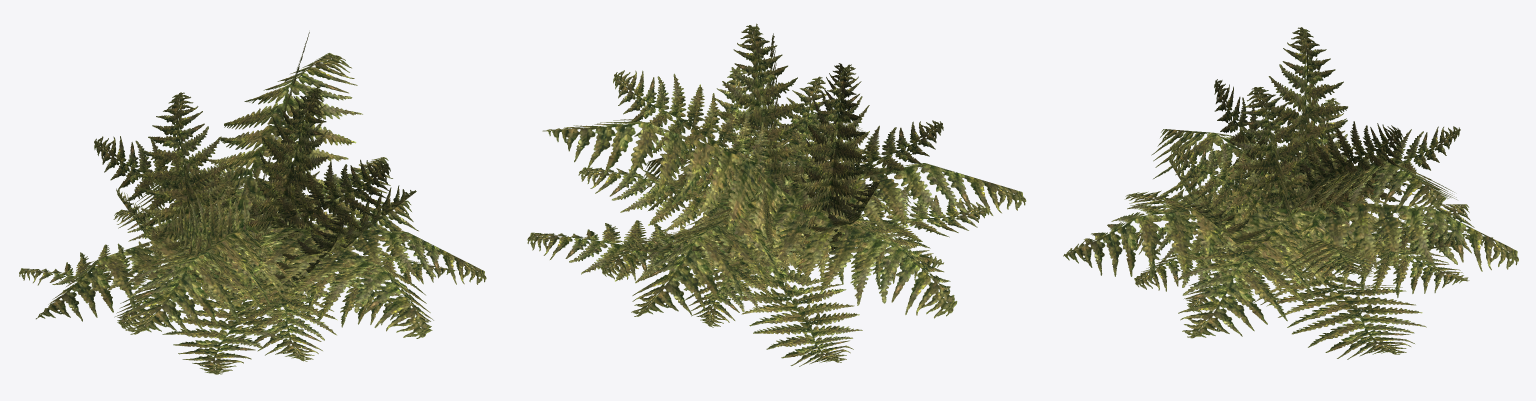
File: fougereleaf.fbx
The picture shows the model from 3 angles, left to right: view 1: azimuth 30°, elevation 25°; view 2: azimuth 150°, elevation 25°; view 3: azimuth 270°, elevation 25°; orthographic projection. The views are drawn at different scales.
Parts seen in each view (by area): view 1: fougereleaf; view 2: fougereleaf; view 3: fougereleaf.
Boxes of the visible parts, bbox=[...] form: fougereleaf: bbox=[19, 32, 486, 374]; fougereleaf: bbox=[527, 23, 1026, 366]; fougereleaf: bbox=[1063, 27, 1518, 359].
Bounding box in the file's own units: 0.5133 × 0.2764 × 0.4828.
Materials: 1 (1 with a texture image).
